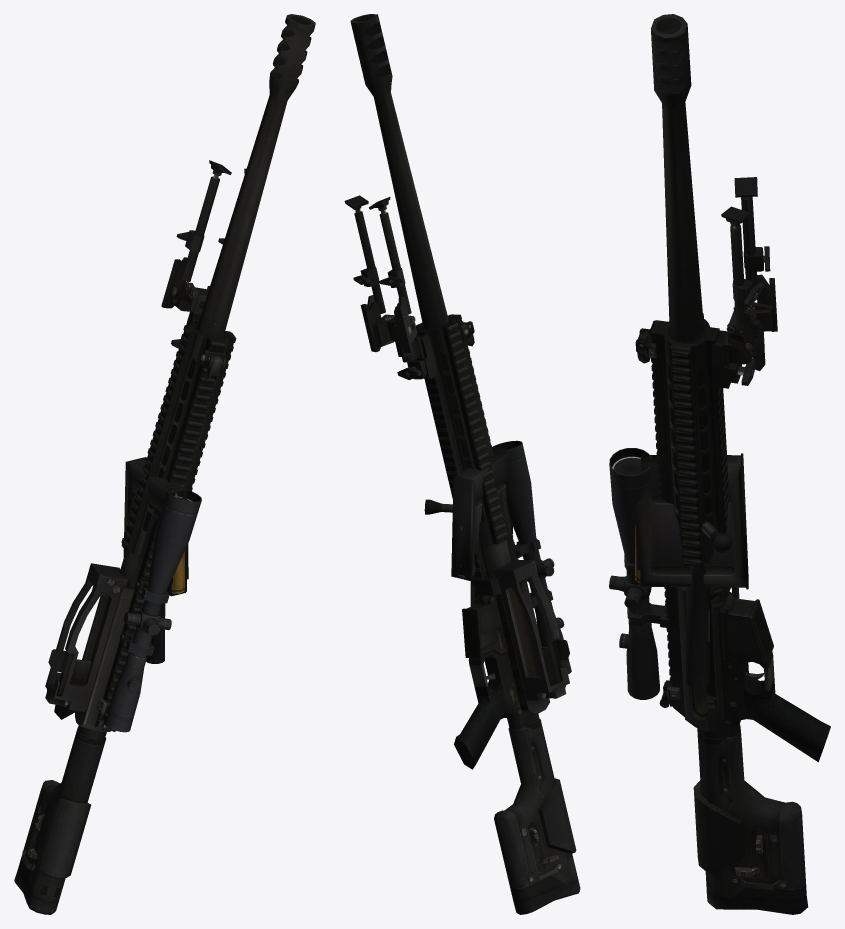
Rendered from Tactilite_T2.obj.
3 views of the same model, side by side, from view 1: azimuth 30°, elevation 25°; view 2: azimuth 150°, elevation 25°; view 3: azimuth 270°, elevation 25° (orthographic). The views are drawn at different scales.
Parts seen in each view (by area): view 1: Taclite-T2, PSG-1, Model_Magazine; view 2: Taclite-T2, PSG-1, Model_Magazine; view 3: Taclite-T2, Model_Magazine, PSG-1, Model_Handle.
Boxes of the visible parts, bbox=[...] form: Taclite-T2: bbox=[14, 14, 315, 914]; PSG-1: bbox=[104, 487, 201, 732]; Model_Magazine: bbox=[123, 457, 188, 596]; Taclite-T2: bbox=[344, 14, 580, 914]; PSG-1: bbox=[492, 440, 571, 674]; Model_Magazine: bbox=[451, 447, 512, 580]; Taclite-T2: bbox=[635, 14, 830, 914]; Model_Magazine: bbox=[635, 453, 748, 589]; PSG-1: bbox=[609, 448, 668, 699]; Model_Handle: bbox=[686, 521, 732, 687].
Bounding box in the file's own units: 0.4276 × 1.34 × 0.2632.
2 materials, 2 textured.
